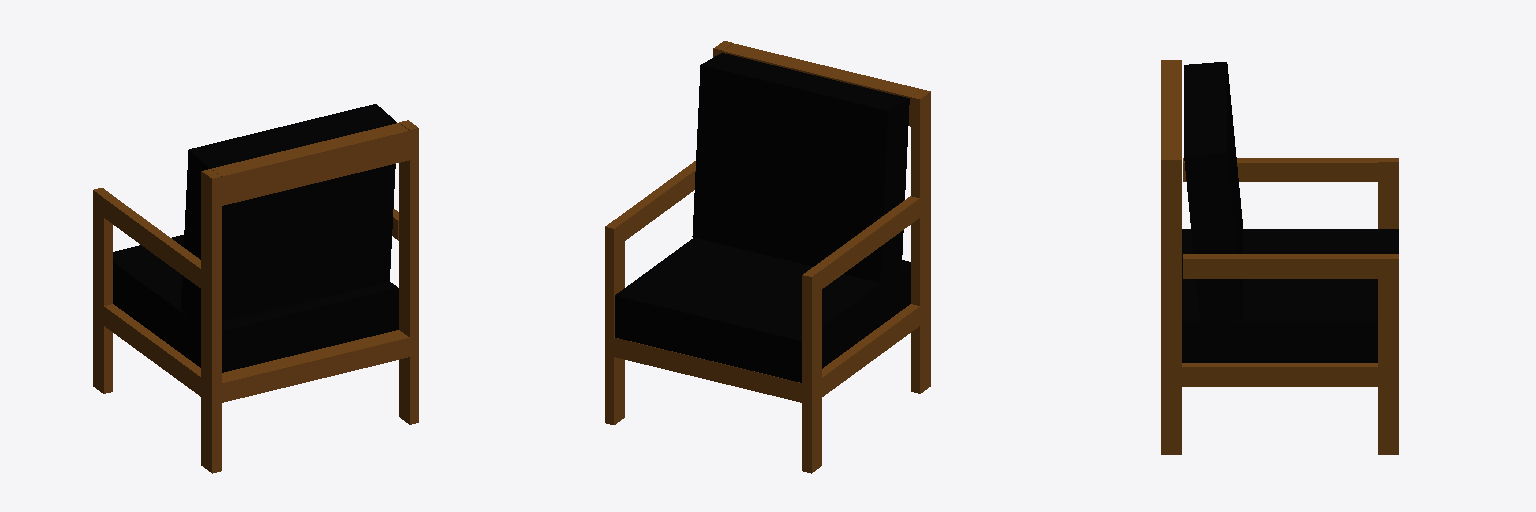
Rendered from chair.obj.
The picture shows the model from 3 angles: view 1: azimuth 30°, elevation 25°; view 2: azimuth 150°, elevation 25°; view 3: azimuth 270°, elevation 25°; orthographic projection.
Visible parts, largest first — view 1: chair_down.003_Cube.009; view 2: chair_down.003_Cube.009; view 3: chair_down.003_Cube.009.
Part boxes in pixels (x1,y1,x2,y2): chair_down.003_Cube.009: (93,104,418,473); chair_down.003_Cube.009: (605,41,930,473); chair_down.003_Cube.009: (1161,60,1398,454).
Bounding box in the file's own units: 2.2 × 3.03 × 2.2.